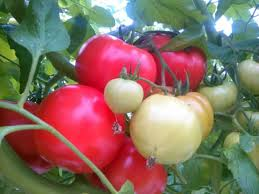tomato: (34, 87, 126, 175), (76, 35, 155, 102), (139, 32, 210, 94), (97, 139, 169, 190)
